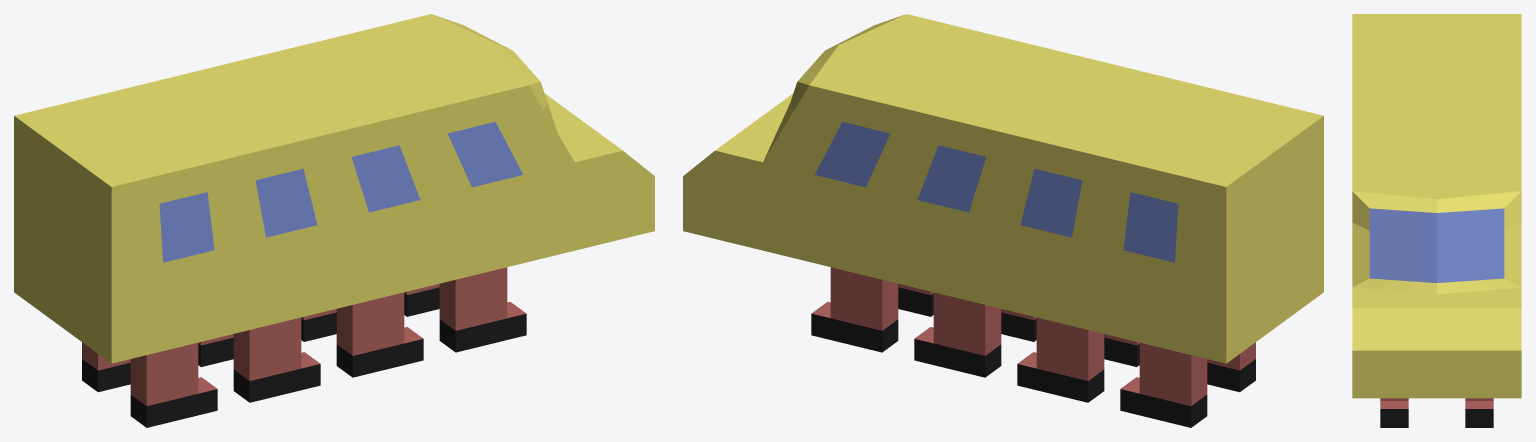
File: Bus.fbx
3 views of the same model, side by side, from view 1: azimuth 30°, elevation 25°; view 2: azimuth 150°, elevation 25°; view 3: azimuth 270°, elevation 25° (orthographic). The views are drawn at different scales.
Parts seen in each view (by area): view 1: Bus; view 2: Bus; view 3: Bus.
Part boxes in pixels (x1,y1,x2,y2): Bus: (14, 14, 654, 427); Bus: (683, 14, 1323, 427); Bus: (1352, 14, 1521, 427).
Size of the model in its own units: 644 by 300 by 200.
